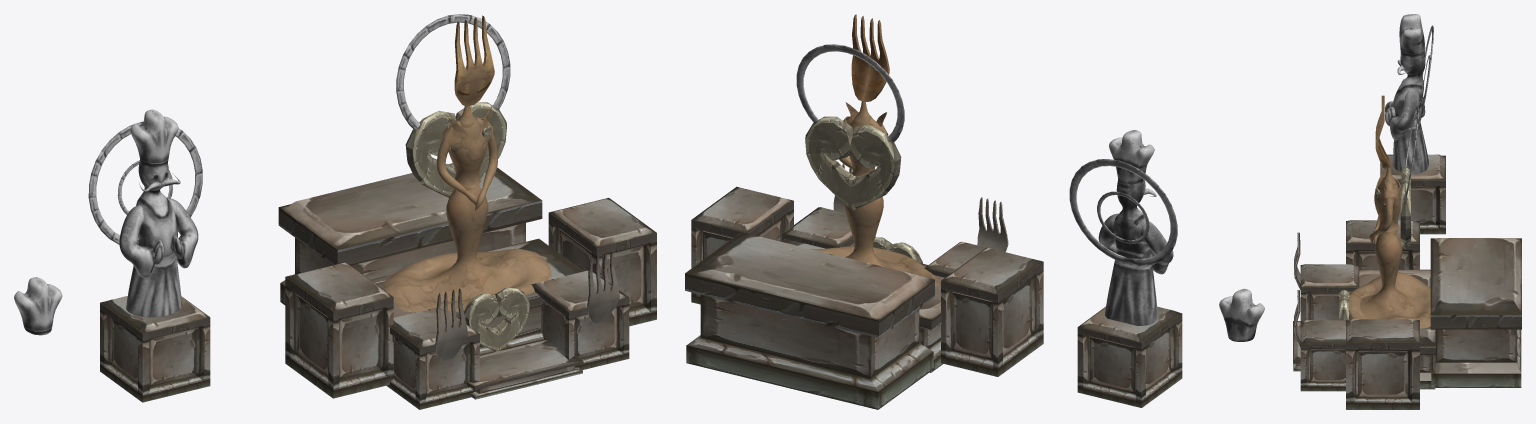
Rendered from Chef.fbx.
3 views of the same model, side by side, from view 1: azimuth 30°, elevation 25°; view 2: azimuth 150°, elevation 25°; view 3: azimuth 270°, elevation 25° (orthographic). The views are drawn at different scales.
Parts seen in each view (by area): view 1: Cube.003, Cube.004, Cube.002, Circle, Cube, Cube.006, Cube.001, Circle.007, Plane.002, Circle.003, Cube.005, Plane (+4 smaller); view 2: Cube.004, Cube.003, Cube.006, Cube, Circle.007, Circle, Cube.002, Circle.005, Plane, Circle.006, Cube.008, Cube.005 (+3 smaller); view 3: Cube.004, Cube.003, Cube.002, Circle, Cube, Cube.006, Cube.005, Circle.001, Circle.007, Plane.002, Plane, Circle.006 (+3 smaller).
Boxes of the visible parts, x1,y1,x2,y2 form: Cube.003: (285, 198, 656, 398); Cube.004: (278, 163, 542, 305); Cube.002: (386, 270, 629, 409); Circle: (382, 106, 552, 312); Cube: (119, 109, 198, 317); Cube.006: (100, 296, 210, 402); Cube.001: (467, 339, 583, 399); Circle.007: (405, 102, 506, 197); Plane.002: (435, 251, 619, 360); Circle.003: (464, 288, 529, 351); Cube.005: (370, 238, 583, 377); Plane: (454, 15, 494, 106); Cube.004: (685, 232, 934, 409); Cube.003: (691, 186, 1043, 376); Cube.006: (1077, 306, 1182, 407); Cube: (1098, 130, 1173, 325); Circle.007: (805, 116, 901, 210); Circle: (811, 101, 940, 286); Cube.002: (782, 207, 985, 277); Circle.005: (1069, 159, 1177, 266); Plane: (851, 14, 889, 101); Circle.006: (796, 44, 904, 142); Cube.008: (1219, 288, 1264, 341); Cube.005: (781, 238, 944, 372); Cube.004: (1430, 238, 1521, 387); Cube.003: (1346, 220, 1419, 409); Cube.002: (1300, 264, 1359, 391); Circle: (1349, 167, 1430, 328); Cube: (1385, 14, 1428, 173); Cube.006: (1380, 154, 1445, 234); Cube.005: (1345, 269, 1435, 389); Circle.001: (1374, 168, 1400, 231); Circle.007: (1400, 167, 1410, 248); Plane.002: (1294, 232, 1300, 347); Plane: (1375, 95, 1390, 168); Circle.006: (1404, 106, 1418, 201).
Bounding box in the file's own units: 1353 × 706 × 582.
